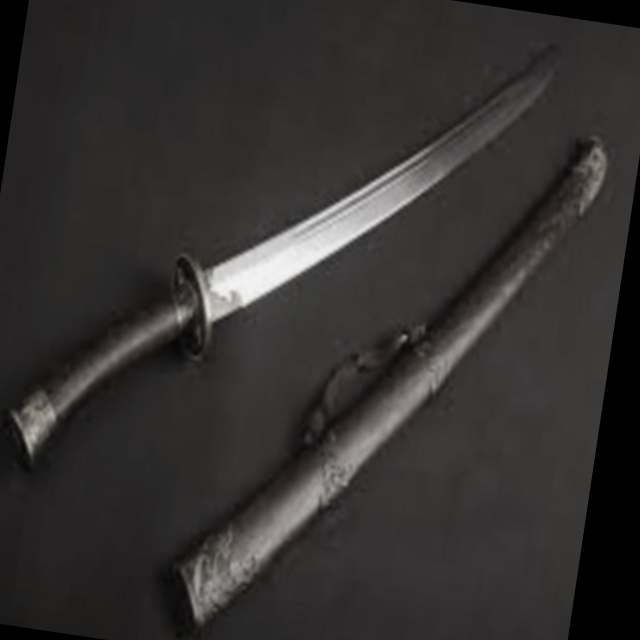Sharp-Object: (5, 0, 565, 524)
